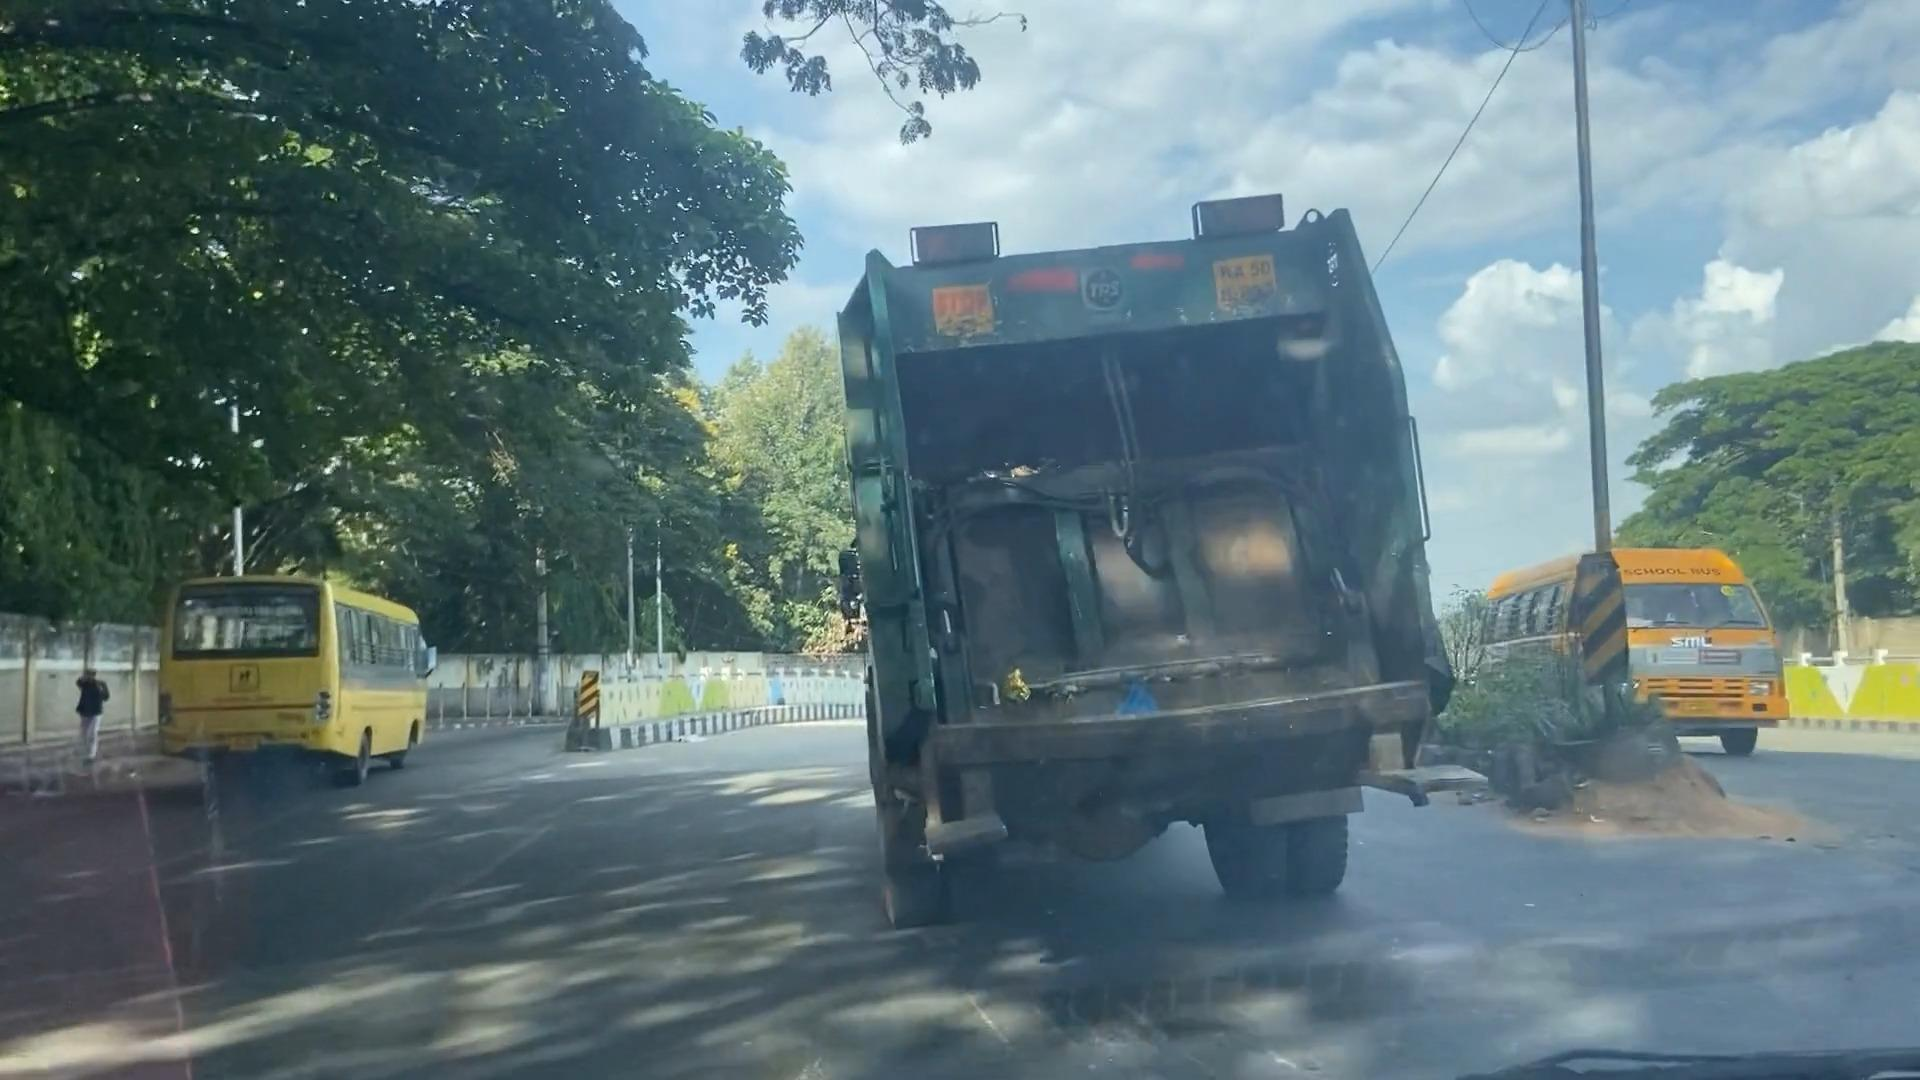HMV: (853, 182, 1408, 885), (160, 585, 414, 800)
